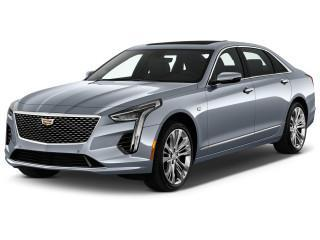cadillac: (40, 116, 58, 128)
